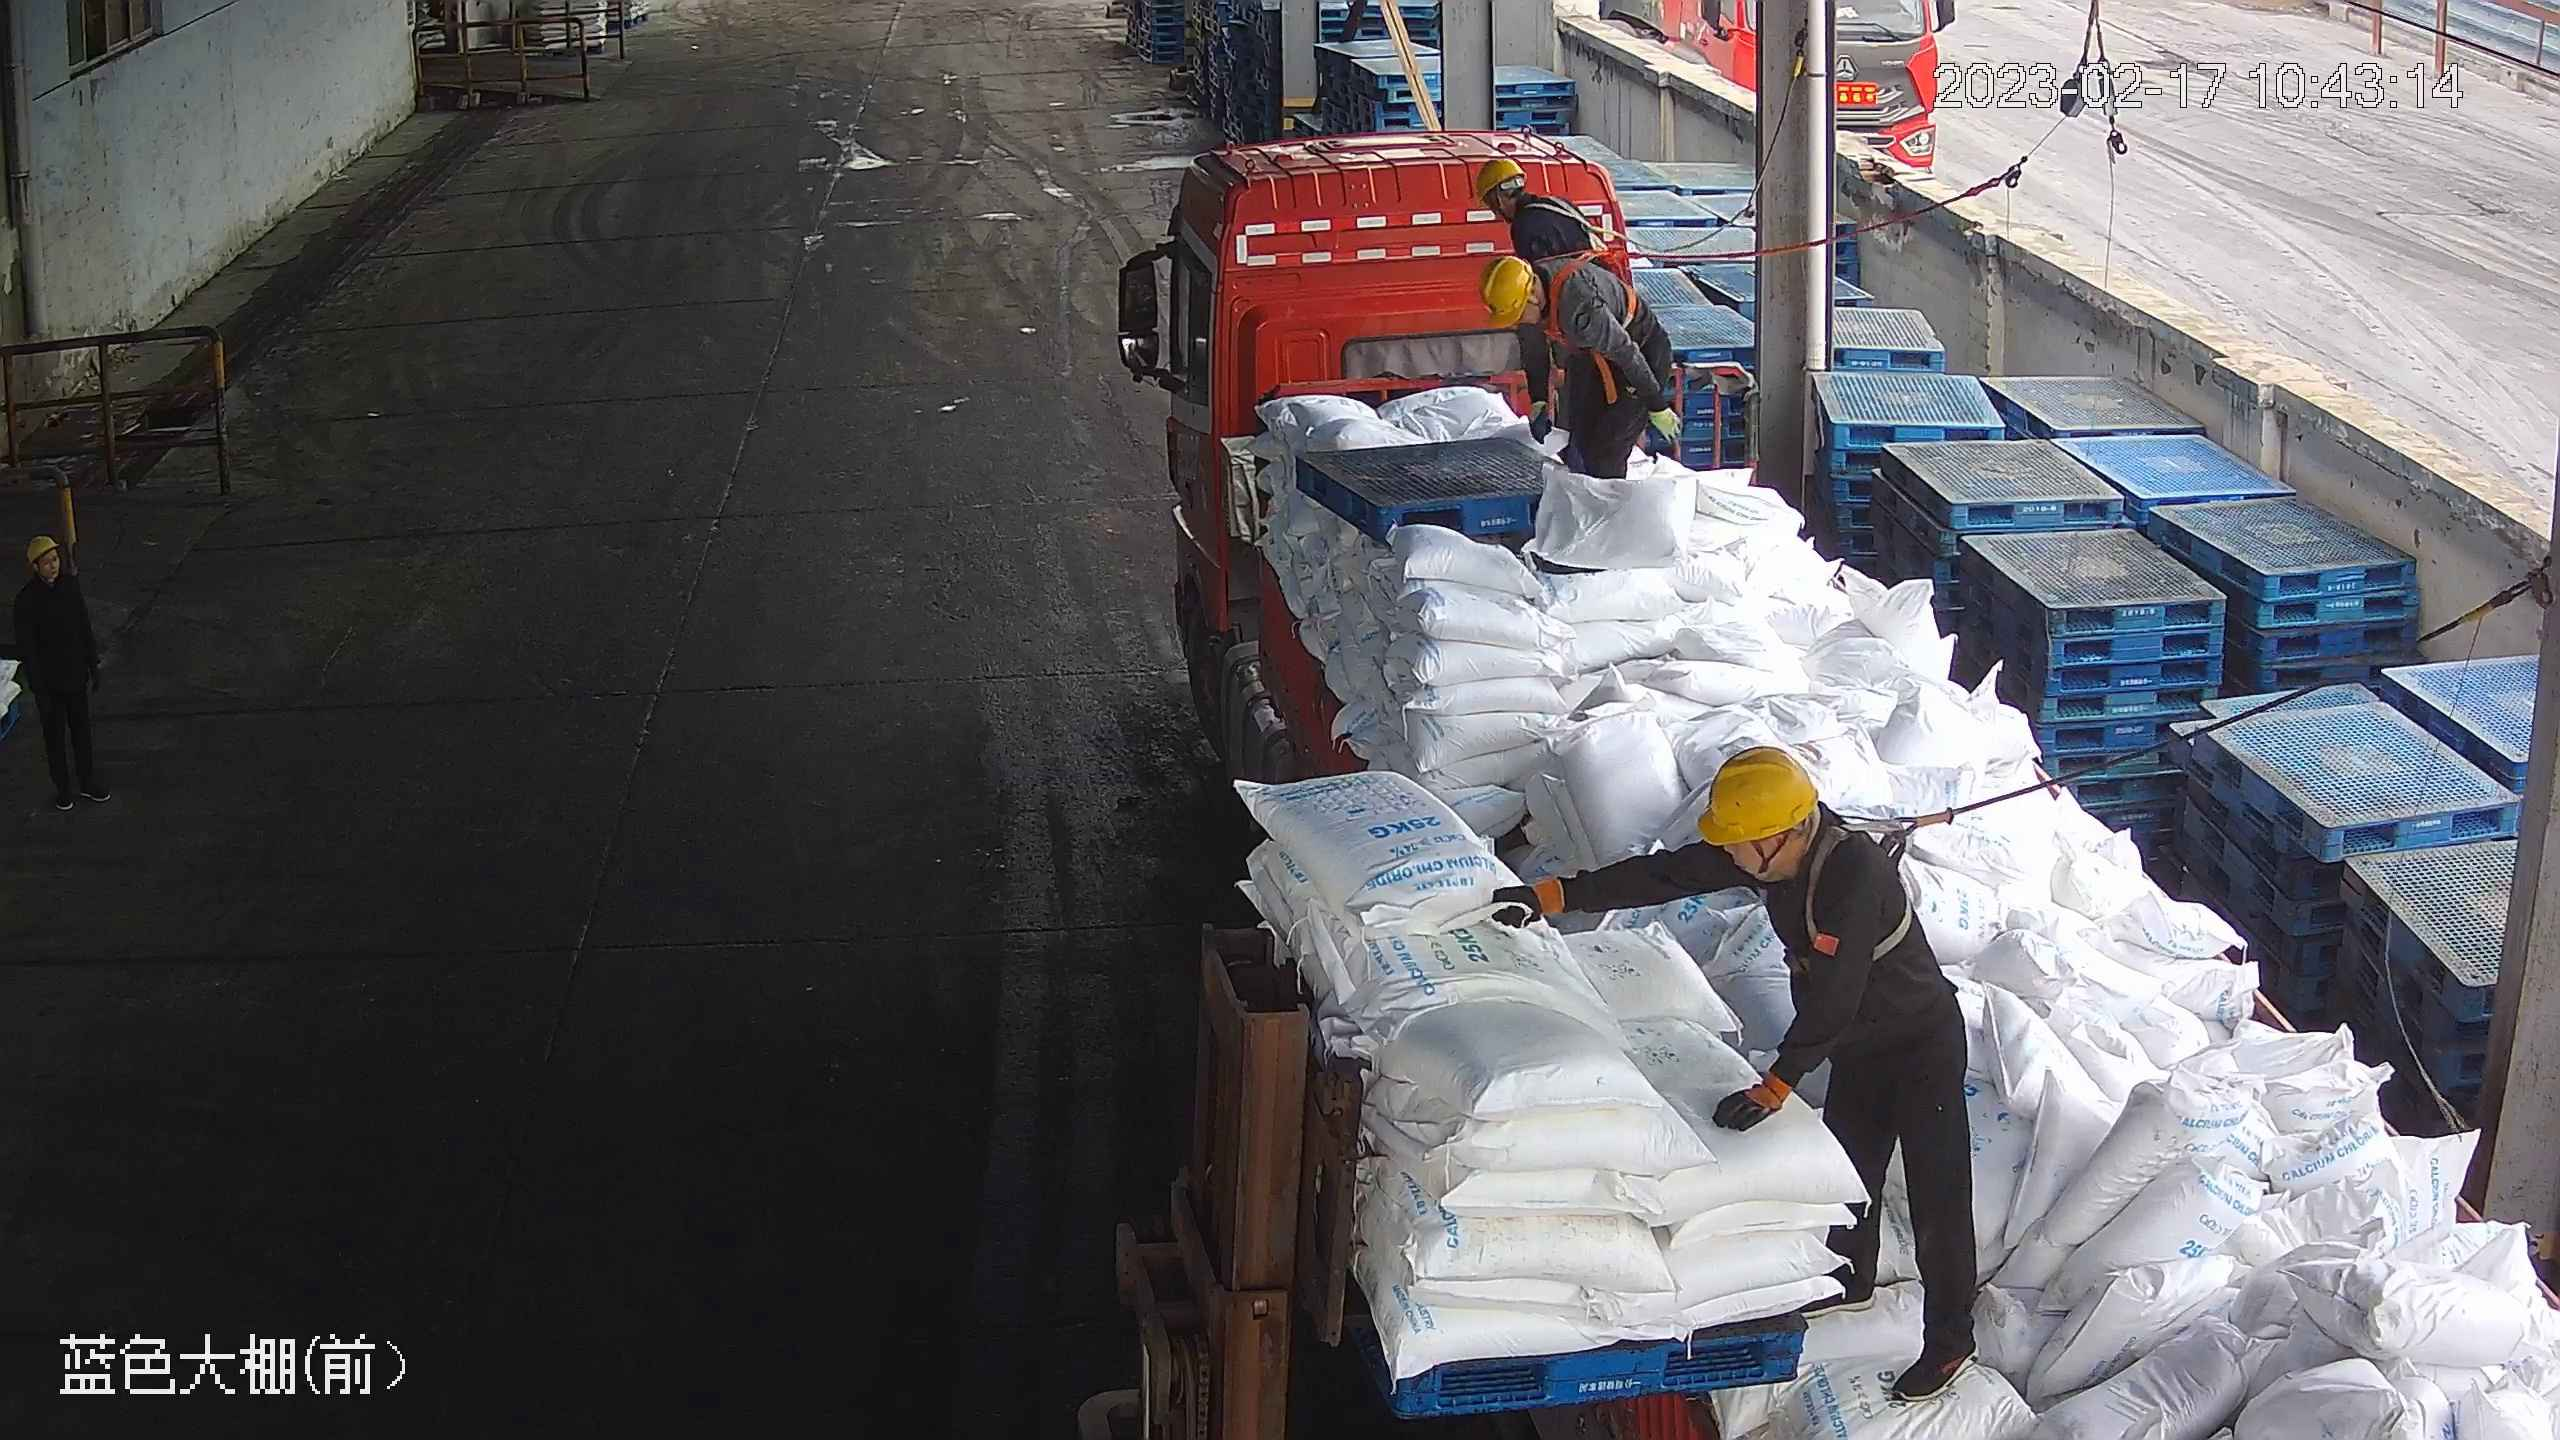belt: (1765, 812, 1945, 974), (1542, 241, 1640, 339), (1534, 190, 1623, 272)
head: (1686, 743, 1910, 946), (1485, 255, 1603, 351), (1471, 156, 1581, 252), (11, 534, 89, 618)
helmet: (1695, 744, 1823, 847), (1481, 254, 1537, 325), (1472, 156, 1525, 198), (24, 535, 61, 565)
people: (1495, 729, 1997, 1395), (1484, 240, 1684, 486), (8, 533, 113, 812)
truck: (1131, 120, 2538, 1440)
